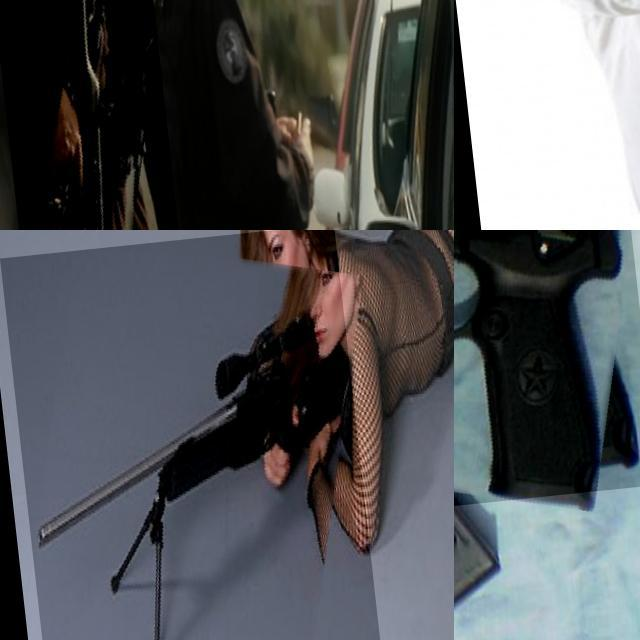gun-knife-thesis - v11 Yolov5 augmented: (0, 231, 368, 640), (454, 230, 640, 531), (0, 0, 172, 230)
